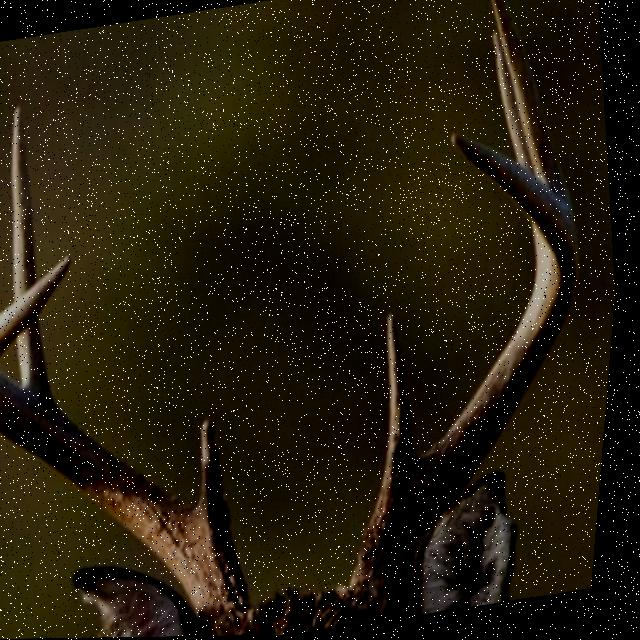L-F: (0, 254, 264, 637)
L-G1: (204, 419, 241, 529)
R-F: (349, 131, 584, 624)
R-G1: (392, 312, 426, 475)
R-G3: (489, 0, 577, 213)
